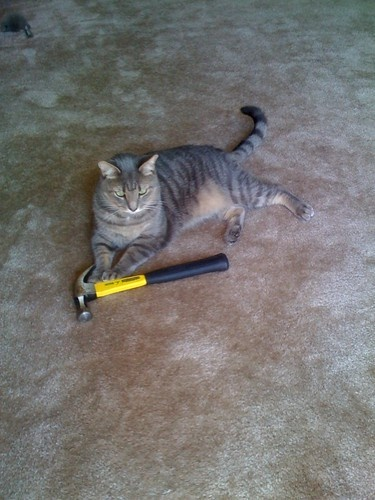hammer: (73, 253, 226, 321)
